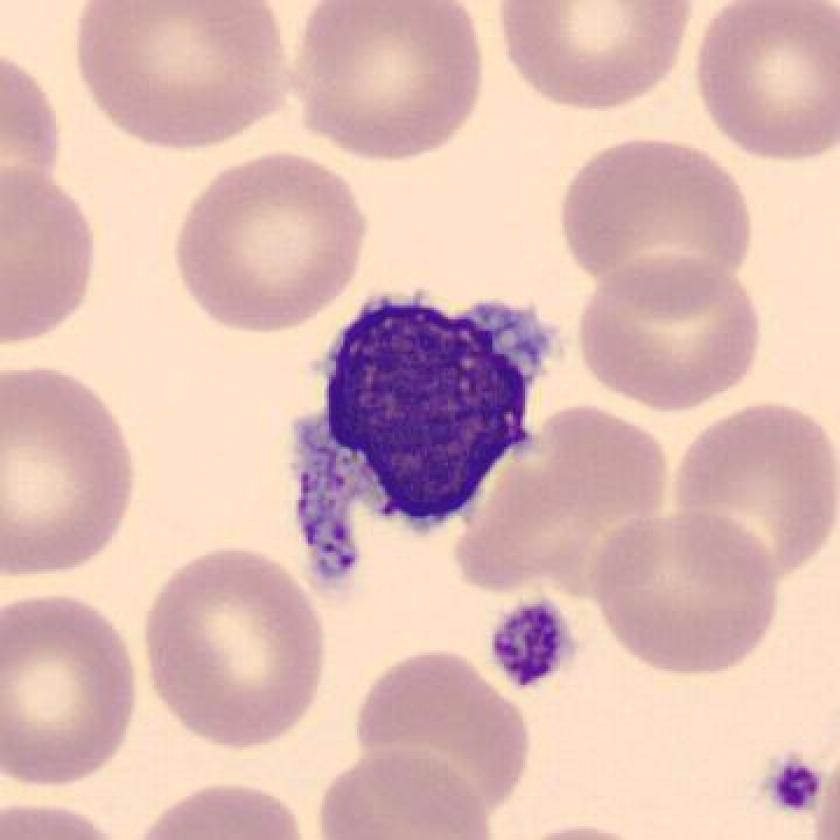lymphocyte: (256, 276, 585, 603)
platelets: (488, 597, 582, 698), (766, 744, 830, 818)
